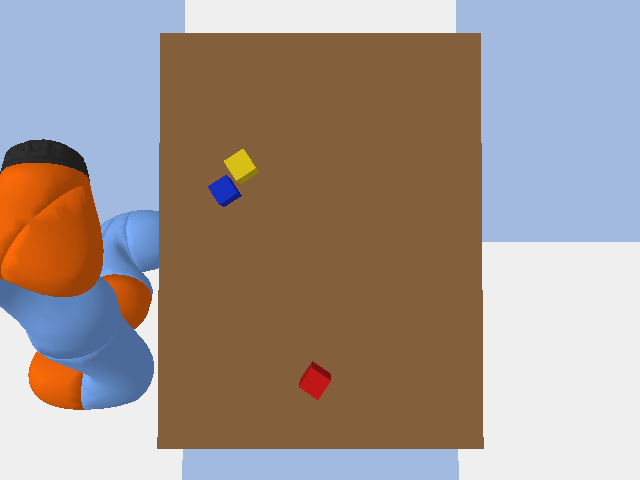blue_obj: (208, 175, 241, 206)
red_obj: (299, 361, 330, 399)
yellow_obj: (224, 149, 258, 183)
